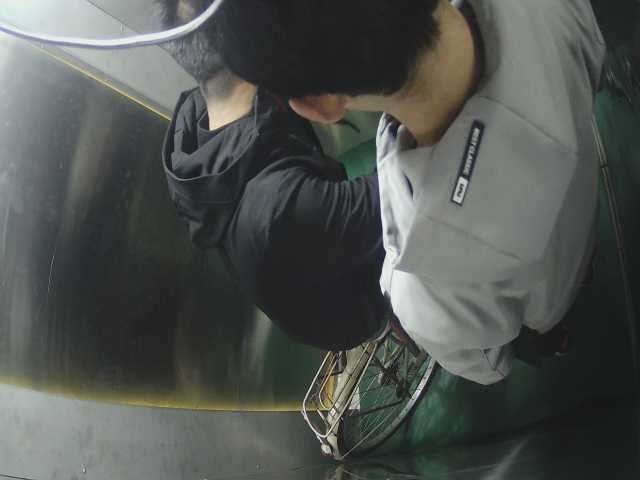bicycle: (313, 304, 452, 464)
person: (232, 4, 600, 387), (159, 1, 406, 359)
